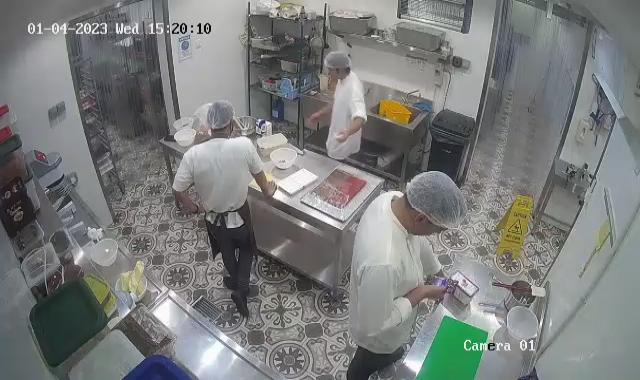hairnet: (402, 170, 469, 234), (206, 100, 234, 132), (320, 51, 352, 73)
